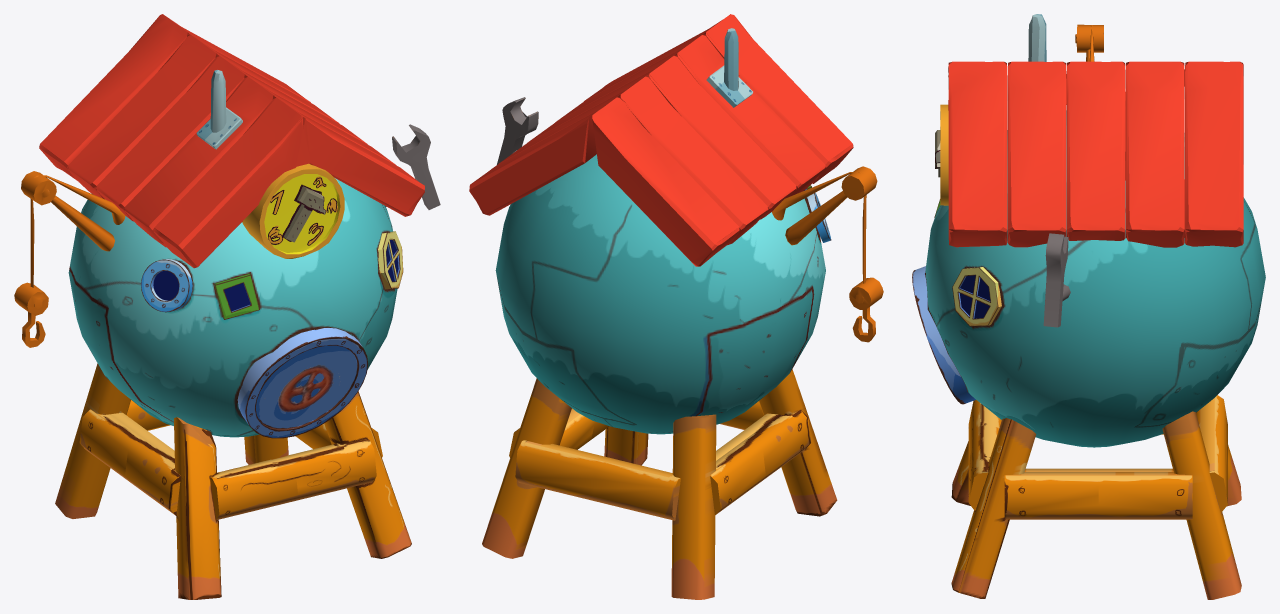
The model's file is PinHouse.glb.
3 views of the same model, side by side, from view 1: azimuth 30°, elevation 25°; view 2: azimuth 150°, elevation 25°; view 3: azimuth 270°, elevation 25° (orthographic). The views are drawn at different scales.
Parts seen in each view (by area): view 1: Base, Roof, Windows, Accessories; view 2: Base, Roof, Accessories; view 3: Base, Roof, Windows, Accessories.
Part boxes in pixels (x1,y1,x2,y2): Base: (55,178,411,599); Roof: (39,14,424,268); Windows: (141,231,403,438); Accessories: (14,124,440,347); Base: (482,154,837,599); Roof: (469,14,853,266); Accessories: (497,97,883,342); Base: (925,110,1265,599); Roof: (935,14,1243,247); Windows: (912,199,1001,404); Accessories: (1043,24,1103,327).
Bounding box in the file's own units: 1.57 × 1.87 × 1.17.
5 materials, 5 textured.
